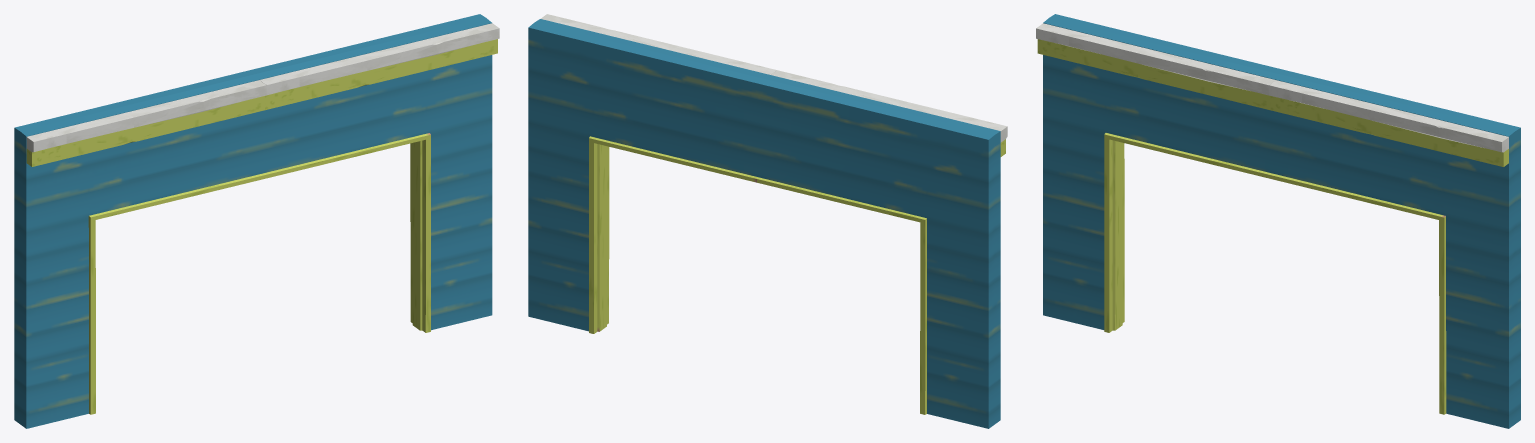
File: Wall_Door_01.fbx
3 renders of one model, left to right at view 1: azimuth 30°, elevation 25°; view 2: azimuth 150°, elevation 25°; view 3: azimuth 330°, elevation 25°, orthographic.
Parts seen in each view (by area): view 1: SM_Bld_Wall_Door_Folding_01; view 2: SM_Bld_Wall_Door_Folding_01; view 3: SM_Bld_Wall_Door_Folding_01.
Boxes of the visible parts, <box> form: SM_Bld_Wall_Door_Folding_01: <box>14,14,499,428</box>; SM_Bld_Wall_Door_Folding_01: <box>528,14,1007,428</box>; SM_Bld_Wall_Door_Folding_01: <box>1036,14,1520,428</box>.
Bounding box in the file's own units: 500 × 301 × 38.84.
